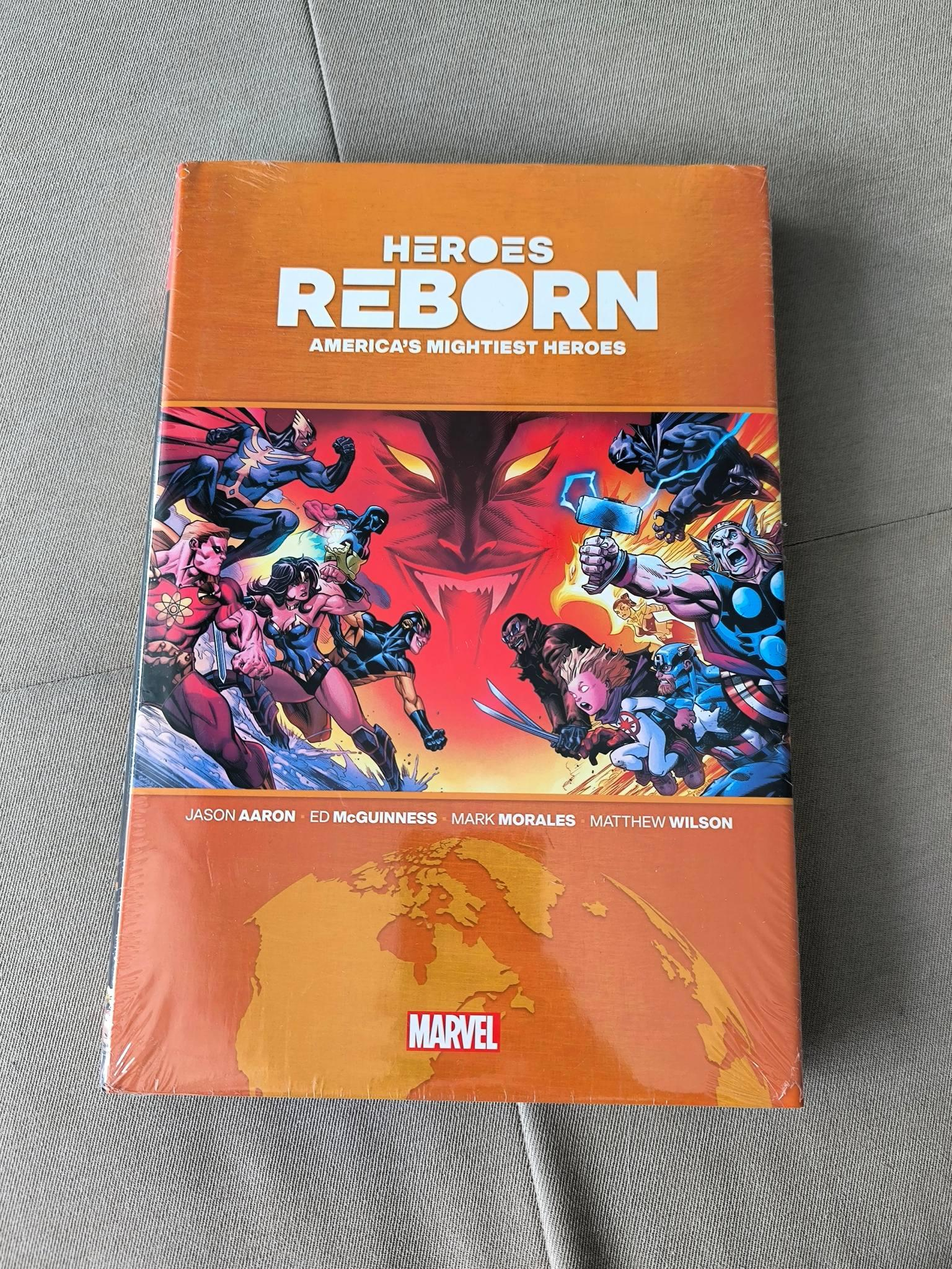comic: (103, 153, 821, 1107)
